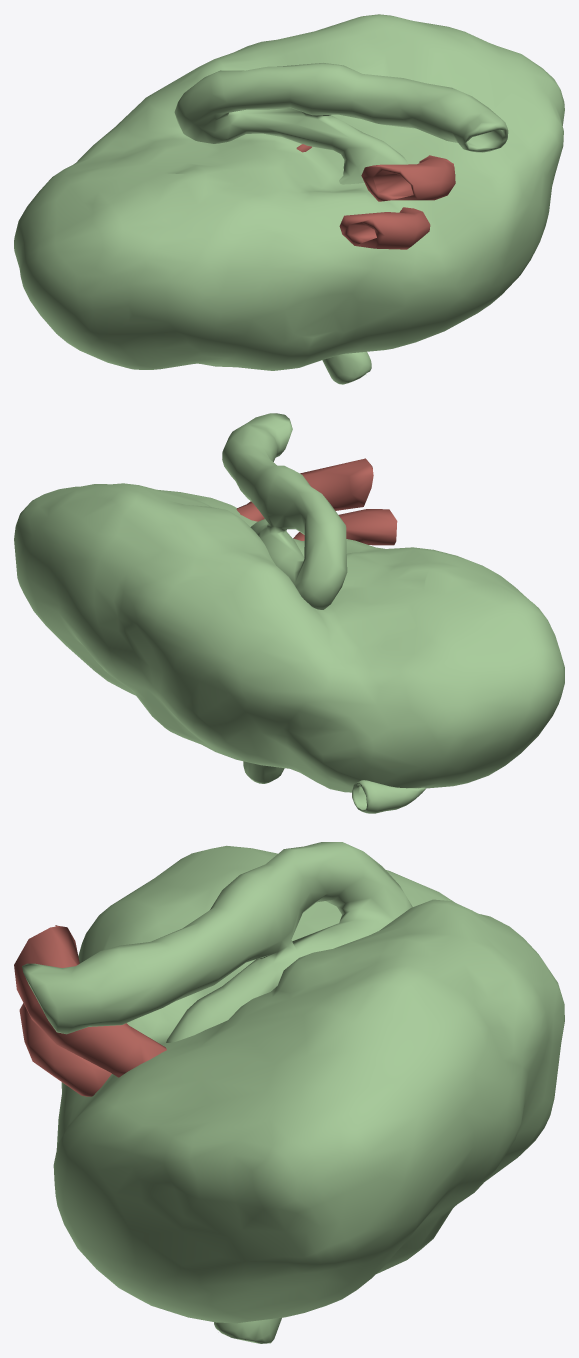
Rendered from module_tissue_lymph_node.lymphatic.LOD1.glb.
3 renders of one model, top to bottom at view 1: azimuth 30°, elevation 25°; view 2: azimuth 150°, elevation 25°; view 3: azimuth 270°, elevation 25°, orthographic. The views are drawn at different scales.
Parts seen in each view (by area): view 1: MODULE.TISSUE.LYMPH_NODE.CAPSULE_OF_LYMPH_NODE, MODULE.TISSUE.LYMPH_NODE.EFFERENT_LYMPH_NODE, MODULE.TISSUE.LYMPH_NODE.BLOOD_VASCULATURE, MODULE.TISSUE.LYMPH_NODE.AFFERENT_LYMPHATIC_VESSEL; view 2: MODULE.TISSUE.LYMPH_NODE.CAPSULE_OF_LYMPH_NODE, MODULE.TISSUE.LYMPH_NODE.EFFERENT_LYMPH_NODE, MODULE.TISSUE.LYMPH_NODE.BLOOD_VASCULATURE, MODULE.TISSUE.LYMPH_NODE.AFFERENT_LYMPHATIC_VESSEL; view 3: MODULE.TISSUE.LYMPH_NODE.CAPSULE_OF_LYMPH_NODE, MODULE.TISSUE.LYMPH_NODE.EFFERENT_LYMPH_NODE, MODULE.TISSUE.LYMPH_NODE.BLOOD_VASCULATURE, MODULE.TISSUE.LYMPH_NODE.AFFERENT_LYMPHATIC_VESSEL.
Part boxes in pixels (box(x1,y1,x2,y2)): MODULE.TISSUE.LYMPH_NODE.CAPSULE_OF_LYMPH_NODE: box(14, 14, 564, 370); MODULE.TISSUE.LYMPH_NODE.EFFERENT_LYMPH_NODE: box(174, 63, 508, 184); MODULE.TISSUE.LYMPH_NODE.BLOOD_VASCULATURE: box(296, 144, 455, 249); MODULE.TISSUE.LYMPH_NODE.AFFERENT_LYMPHATIC_VESSEL: box(322, 352, 371, 384); MODULE.TISSUE.LYMPH_NODE.CAPSULE_OF_LYMPH_NODE: box(14, 483, 564, 792); MODULE.TISSUE.LYMPH_NODE.EFFERENT_LYMPH_NODE: box(222, 413, 347, 609); MODULE.TISSUE.LYMPH_NODE.BLOOD_VASCULATURE: box(236, 458, 397, 545); MODULE.TISSUE.LYMPH_NODE.AFFERENT_LYMPHATIC_VESSEL: box(243, 761, 425, 813); MODULE.TISSUE.LYMPH_NODE.CAPSULE_OF_LYMPH_NODE: box(53, 845, 564, 1323); MODULE.TISSUE.LYMPH_NODE.EFFERENT_LYMPH_NODE: box(22, 842, 412, 1042); MODULE.TISSUE.LYMPH_NODE.BLOOD_VASCULATURE: box(14, 925, 166, 1096); MODULE.TISSUE.LYMPH_NODE.AFFERENT_LYMPHATIC_VESSEL: box(214, 1317, 281, 1343).
Size of the model in its own units: 0.0197 by 0.0113 by 0.0125.
